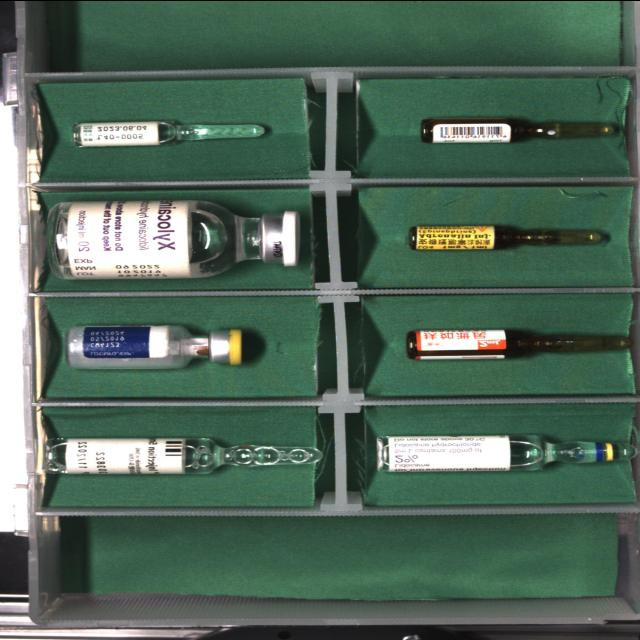Vials: (47, 200, 300, 279), (66, 325, 242, 368)
